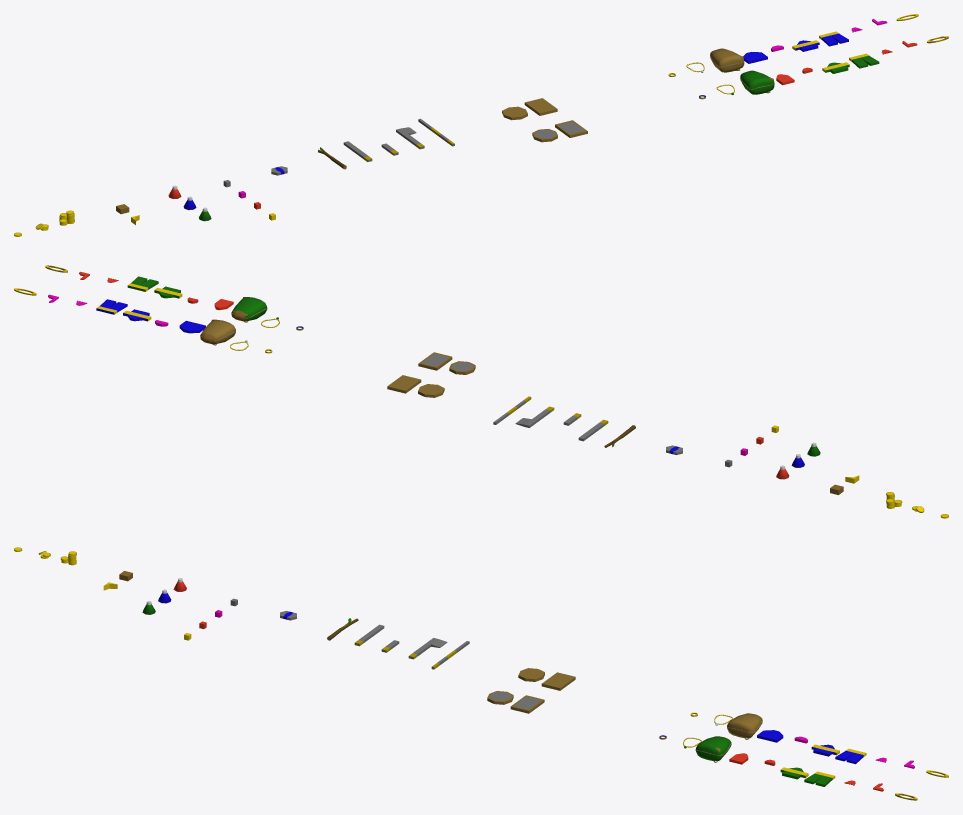
File: Item.glb
3 renders of one model, top to bottom at view 1: azimuth 30°, elevation 25°; view 2: azimuth 150°, elevation 25°; view 3: azimuth 330°, elevation 25°, orthographic. The views are drawn at different scales.
Visible parts, largest first — view 1: ItemRuggedSack, ItemRuggedSack2; view 2: ItemRuggedSack, ItemRuggedSack2; view 3: ItemRuggedSack, ItemRuggedSack2.
Part boxes in pixels (x1,y1,x2,y2): ItemRuggedSack: (710, 48, 744, 72); ItemRuggedSack2: (740, 70, 774, 94); ItemRuggedSack: (200, 319, 235, 345); ItemRuggedSack2: (231, 297, 267, 322); ItemRuggedSack: (727, 713, 762, 739); ItemRuggedSack2: (695, 736, 731, 762).
Size of the model in its own units: 34.57 by 0.5753 by 4.22.
